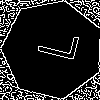L: (27, 25, 79, 63)
